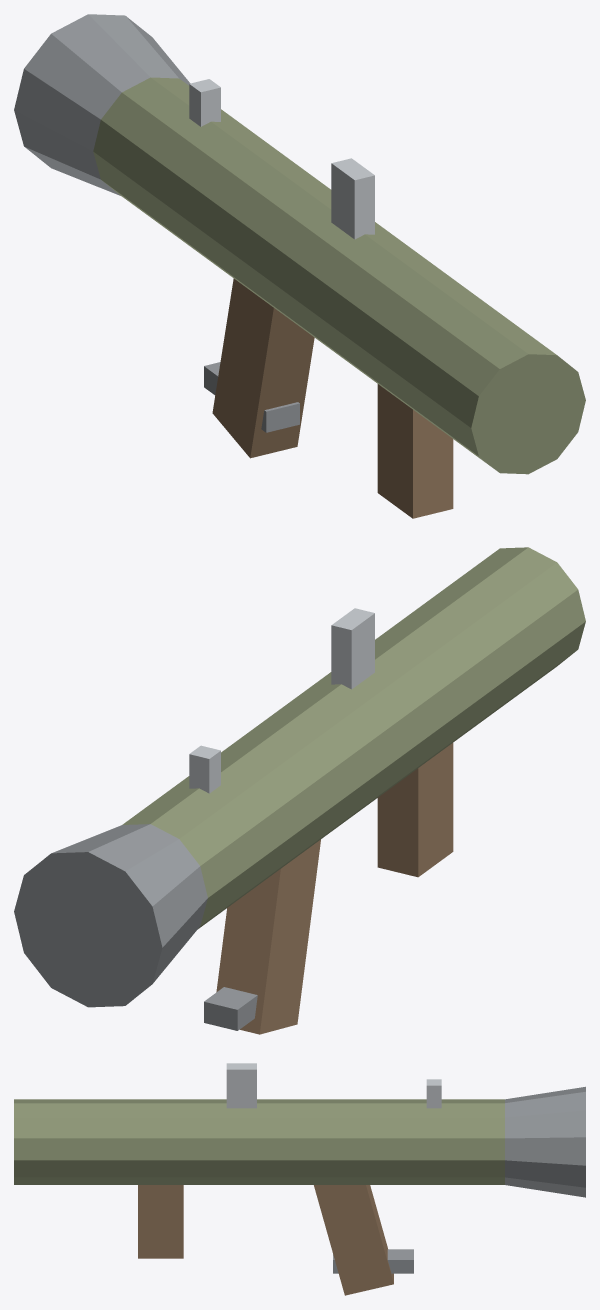
The model's file is rocket_launcher.glb.
3 views of the same model, one above another, from view 1: azimuth 30°, elevation 25°; view 2: azimuth 150°, elevation 25°; view 3: azimuth 270°, elevation 25° (orthographic). The views are drawn at different scales.
Parts seen in each view (by area): view 1: rocket_launcher; view 2: rocket_launcher; view 3: rocket_launcher.
Boxes of the visible parts, x1,y1,x2,y2 form: rocket_launcher: (14, 14, 585, 518); rocket_launcher: (14, 547, 585, 1034); rocket_launcher: (14, 1063, 585, 1295).
Size of the model in its own units: 0.22 by 0.4833 by 1.13.
